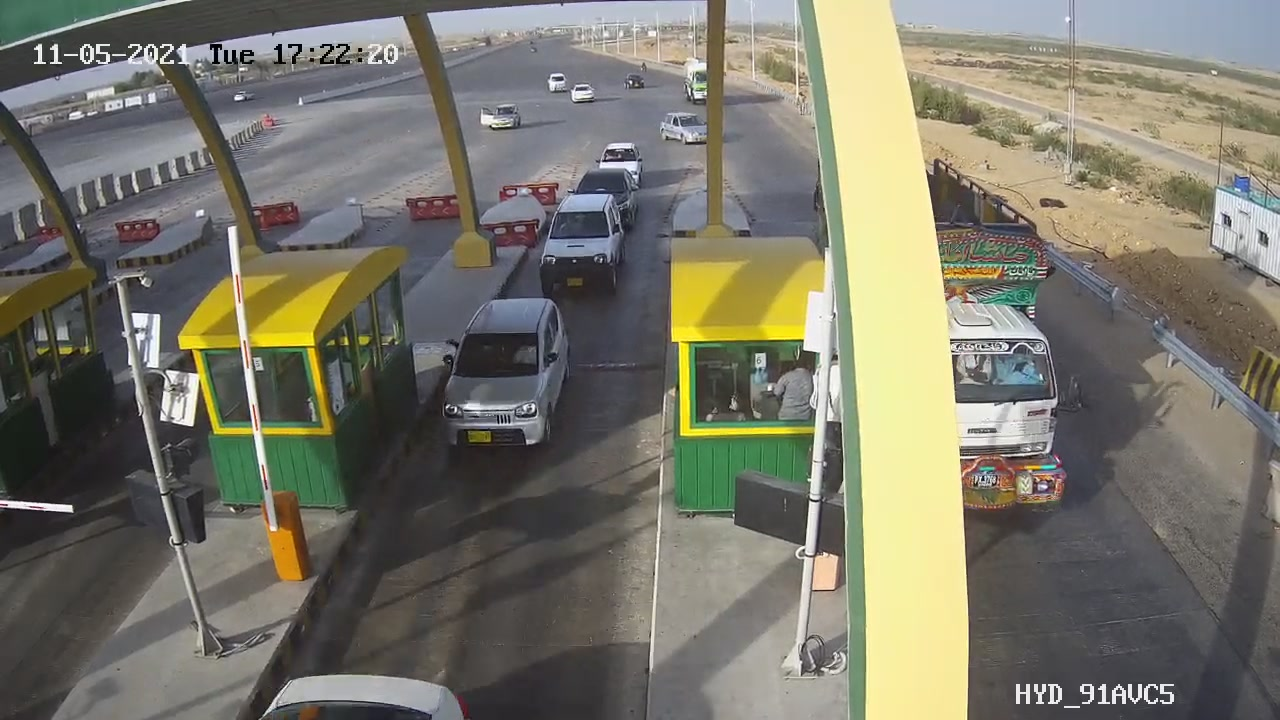F1: (430, 286, 586, 465), (525, 183, 642, 304)
